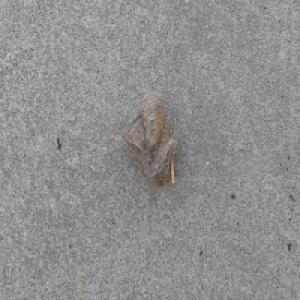Rock: (121, 90, 177, 188)
